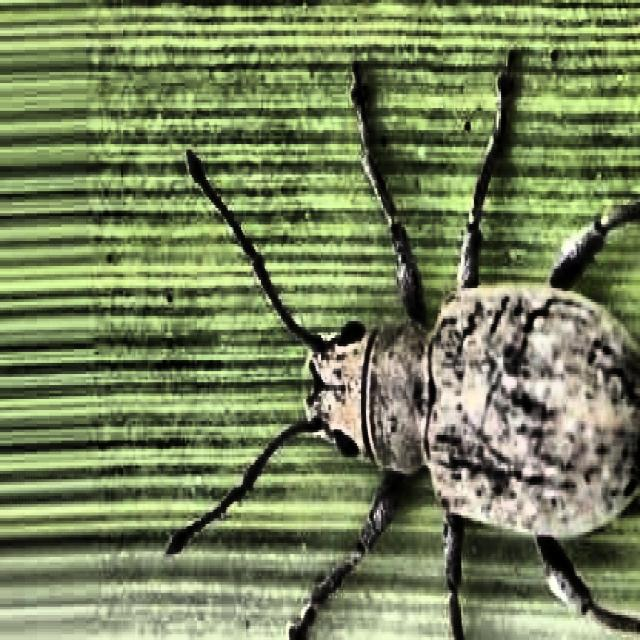Stink bug: (227, 133, 640, 623)
